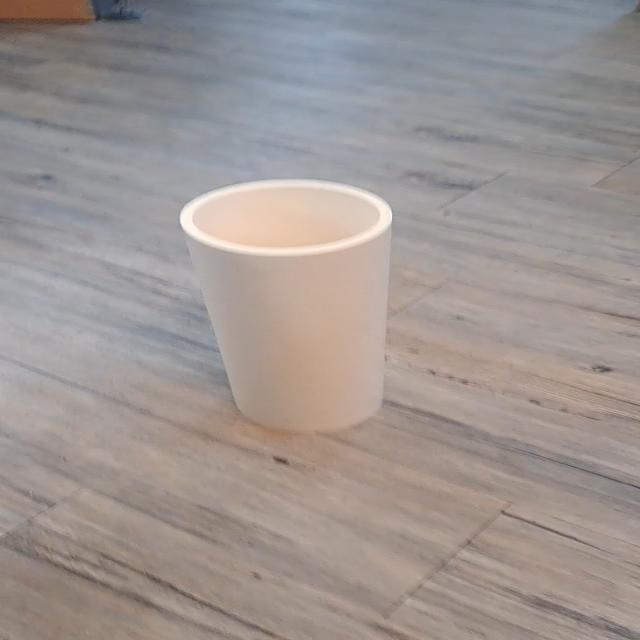CORAL: (149, 154, 452, 442)
